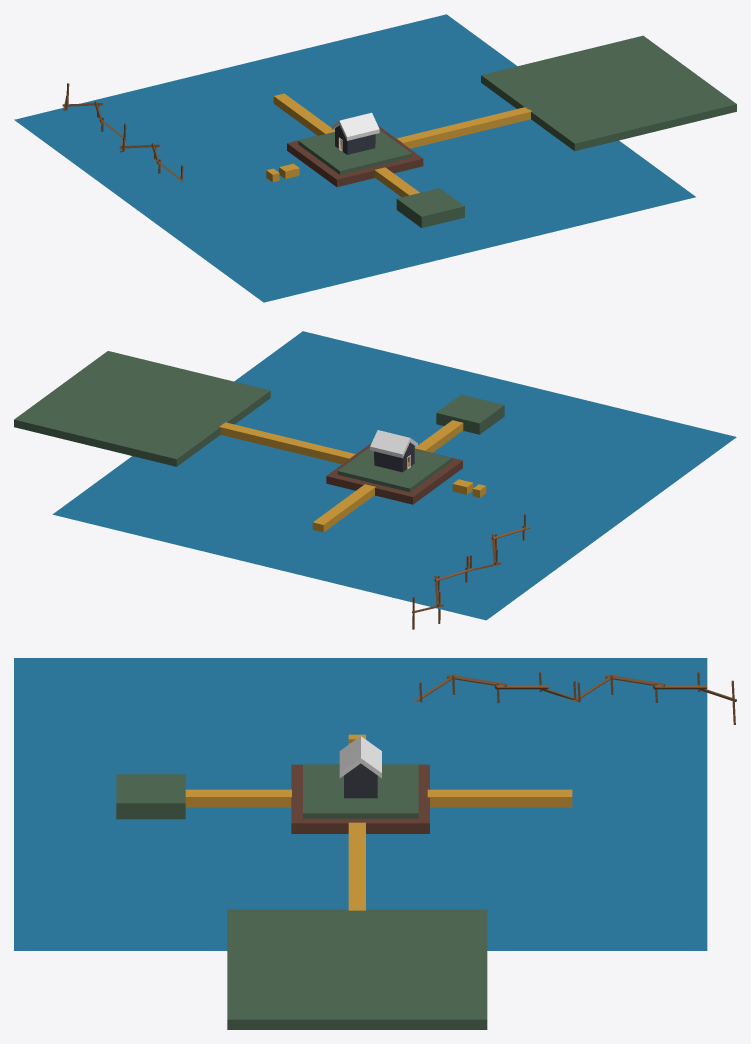
Rendered from Map4.fbx.
3 renders of one model, top to bottom at view 1: azimuth 30°, elevation 25°; view 2: azimuth 150°, elevation 25°; view 3: azimuth 270°, elevation 25°, orthographic. The views are drawn at different scales.
Visible parts, largest first — view 1: Plane, Cube.009, Cube, Cube.002, Cube.004, Cube.008, Cube.005, Roof, Base, Cube.001; view 2: Plane, Cube.009, Cube, Cube.004, Cube.008, Cube.002, Cube.005, Roof, Cube.001, Base, PlankWalk.001; view 3: Plane, Cube.009, Cube, Cube.004, Cube.002, Cube.005, Cube.001, Cube.008, Roof, PlankWalk.001, PlankWalk, Base.
Part boxes in pixels (x1=…): Plane: x1=14, y1=14, x2=695, y2=302; Cube.009: x1=481, y1=35, x2=736, y2=150; Cube: x1=298, y1=130, x2=411, y2=174; Cube.002: x1=396, y1=188, x2=464, y2=227; Cube.004: x1=287, y1=125, x2=423, y2=187; Cube.008: x1=396, y1=107, x2=531, y2=148; Cube.005: x1=273, y1=93, x2=334, y2=135; Roof: x1=331, y1=112, x2=379, y2=140; Base: x1=335, y1=125, x2=375, y2=154; Cube.001: x1=374, y1=167, x2=419, y2=197; Plane: x1=52, y1=331, x2=736, y2=620; Cube.009: x1=14, y1=351, x2=270, y2=466; Cube: x1=337, y1=447, x2=451, y2=492; Cube.004: x1=326, y1=443, x2=462, y2=504; Cube.008: x1=219, y1=422, x2=355, y2=464; Cube.002: x1=436, y1=394, x2=504, y2=434; Cube.005: x1=312, y1=484, x2=375, y2=532; Roof: x1=370, y1=430, x2=417, y2=458; Cube.001: x1=414, y1=420, x2=463, y2=452; Base: x1=374, y1=442, x2=414, y2=472; PlankWalk.001: x1=412, y1=556, x2=472, y2=629; Plane: x1=14, y1=658, x2=707, y2=950; Cube.009: x1=227, y1=909, x2=487, y2=1029; Cube: x1=303, y1=764, x2=418, y2=818; Cube.004: x1=291, y1=764, x2=429, y2=833; Cube.002: x1=116, y1=774, x2=185, y2=819; Cube.005: x1=427, y1=789, x2=572, y2=807; Cube.001: x1=185, y1=789, x2=291, y2=807; Cube.008: x1=348, y1=822, x2=365, y2=910; Roof: x1=339, y1=736, x2=381, y2=778; PlankWalk.001: x1=571, y1=671, x2=736, y2=724; PlankWalk: x1=413, y1=671, x2=578, y2=702; Base: x1=344, y1=763, x2=377, y2=798.
Size of the model in its own units: 125 by 153 by 15.62.
